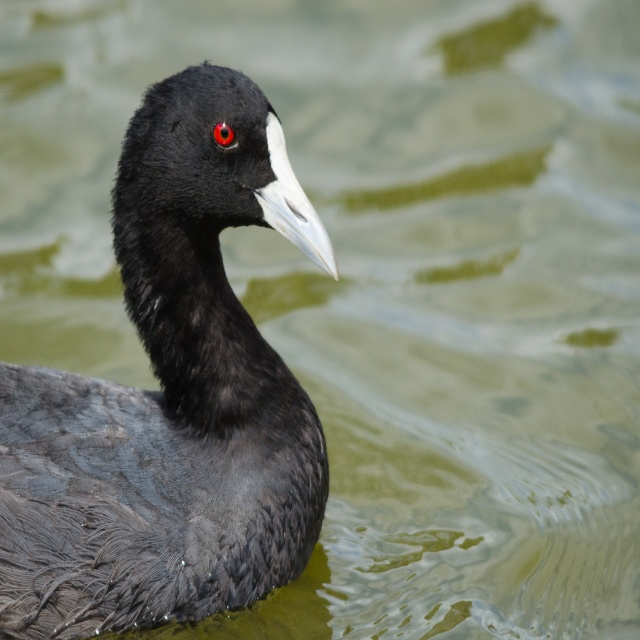Duck: (0, 58, 339, 640)
